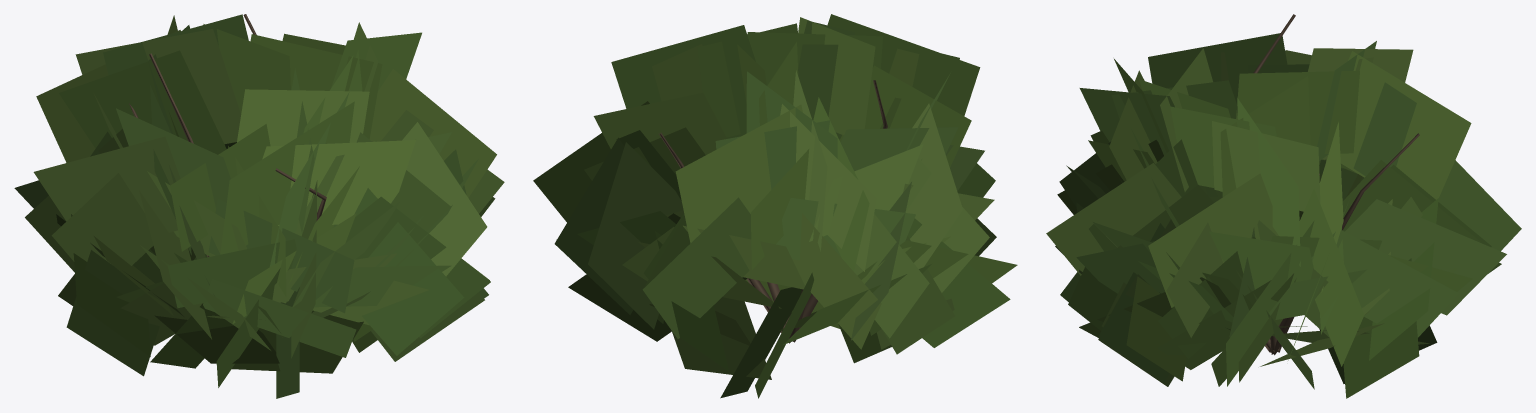
The model's file is shrub.broadleaf.summer.glb.
The picture shows the model from 3 angles, left to right: view 1: azimuth 30°, elevation 25°; view 2: azimuth 150°, elevation 25°; view 3: azimuth 270°, elevation 25°; orthographic projection. The views are drawn at different scales.
Visible parts, largest first — view 1: shrub_broadleaf_summer; view 2: shrub_broadleaf_summer; view 3: shrub_broadleaf_summer.
Boxes of the visible parts, x1,y1,x2,y2 form: shrub_broadleaf_summer: (14, 14, 504, 398); shrub_broadleaf_summer: (533, 14, 1017, 398); shrub_broadleaf_summer: (1046, 14, 1521, 398).
Size of what is drawn, in the model's own units: 2.26 by 1.67 by 2.24.
